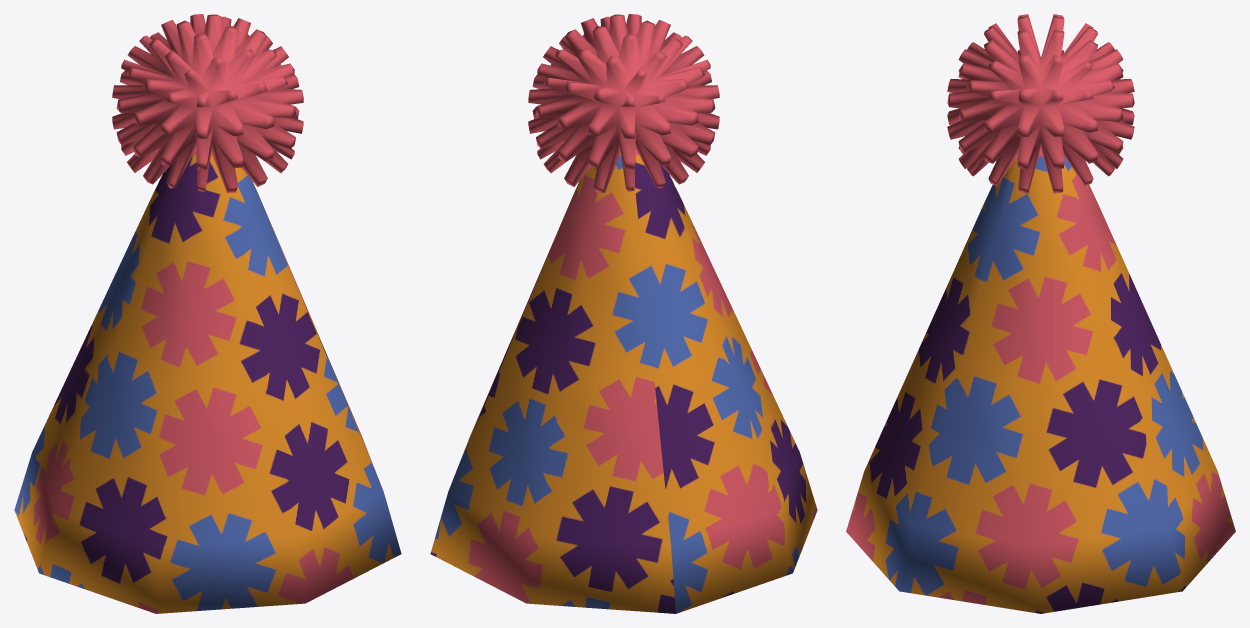
The model's file is party_hat_2_textured.fbx.
3 views of the same model, side by side, from view 1: azimuth 30°, elevation 25°; view 2: azimuth 150°, elevation 25°; view 3: azimuth 270°, elevation 25° (orthographic).
Visible parts, largest first — view 1: pompom; view 2: pompom; view 3: pompom.
Boxes of the visible parts, <box> form: pompom: <box>14,14,401,613</box>; pompom: <box>430,14,817,613</box>; pompom: <box>846,14,1235,613</box>.
Bounding box in the file's own units: 0.7201 × 0.7201 × 1.03.
1 material, 1 textured.
